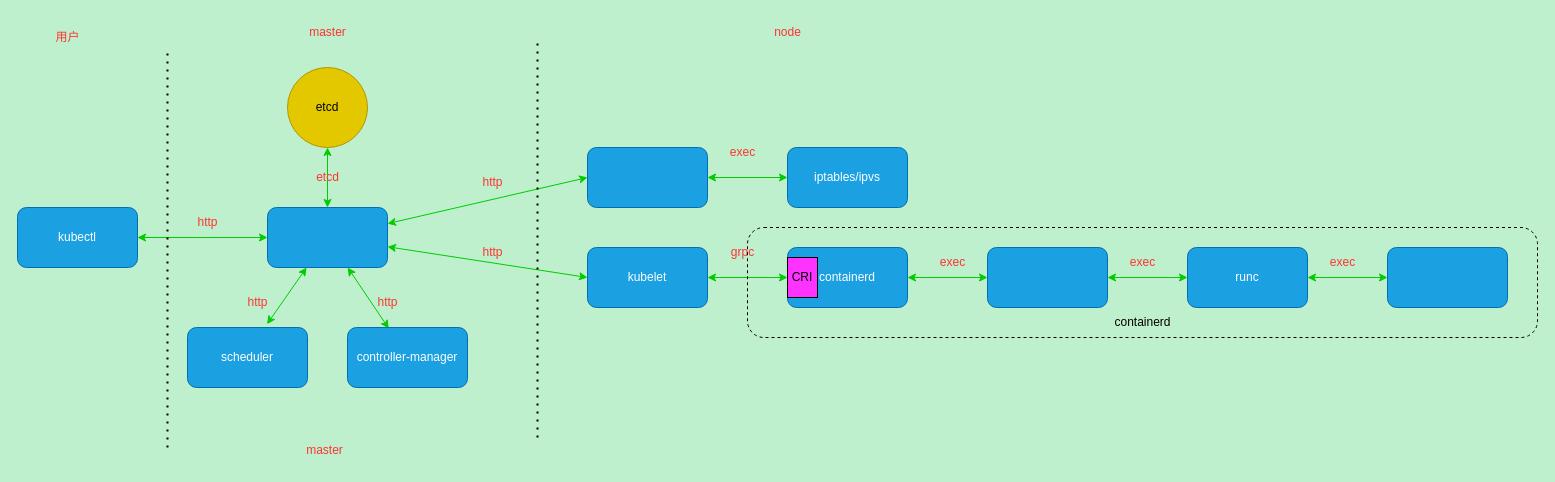
Image size: 1555x482. Some labels were removed from this diagram. Here are the shapes that lost their labels. From the top down, the box of each, then its label:
(586, 146, 708, 208): kube-proxy
(266, 206, 388, 268): api-server
(986, 246, 1108, 308): containerd-shim-runc
(1386, 246, 1508, 308): container
